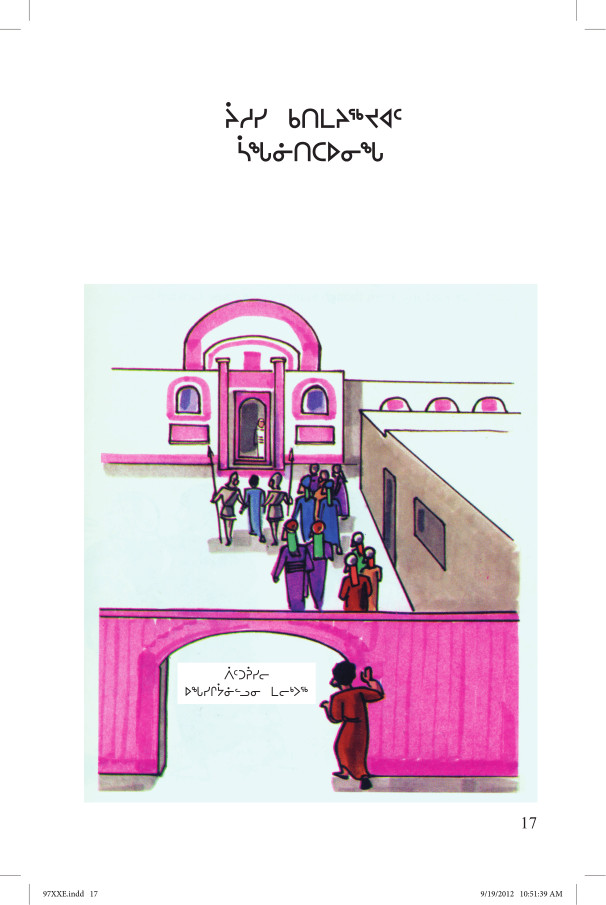inuktitut: (214, 90, 412, 175)
